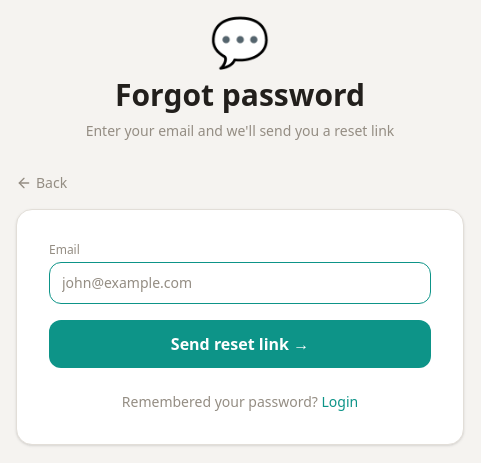
Test: ForgotPassword page › submits the email and shows the confirmation message
Type "alice@example.com" into the field with placeholder "john@example.com" at (240, 283), box x1=49 y1=262 x2=431 y2=304
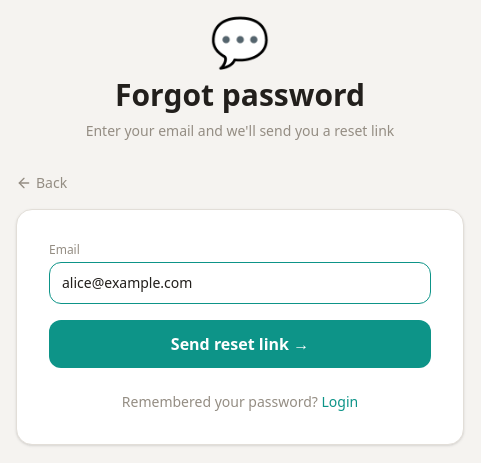
Click the button "Send reset link →" at (240, 344), box x1=49 y1=320 x2=431 y2=368
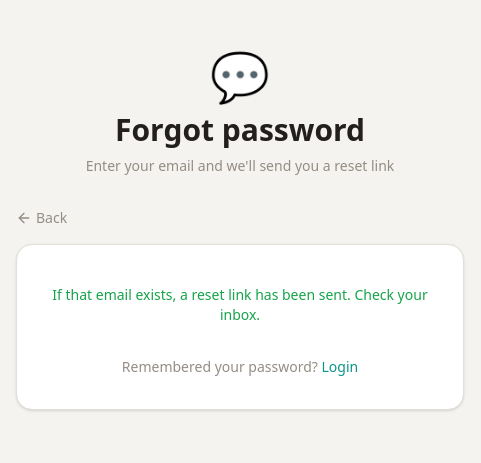
expect the field with placeholder "john@example.com" is not shown: met
expect the text "If that email exists, a reset link has been sent" is shown: met, box x1=52 y1=285 x2=428 y2=324
